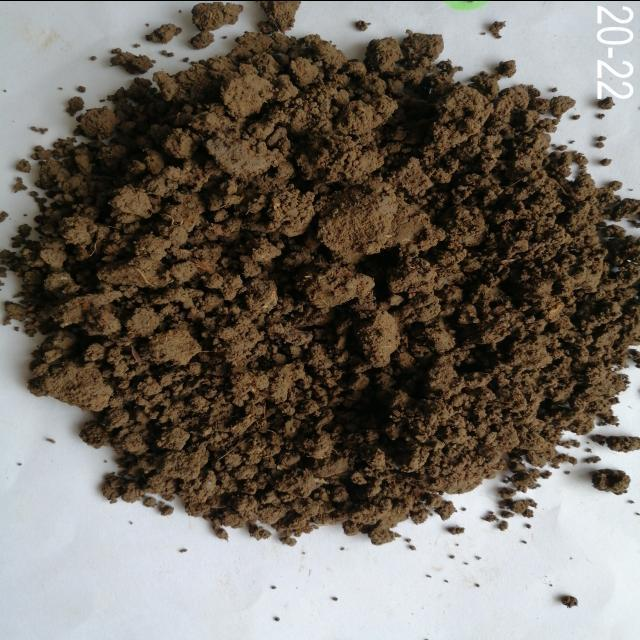soil: (93, 110, 560, 472)
